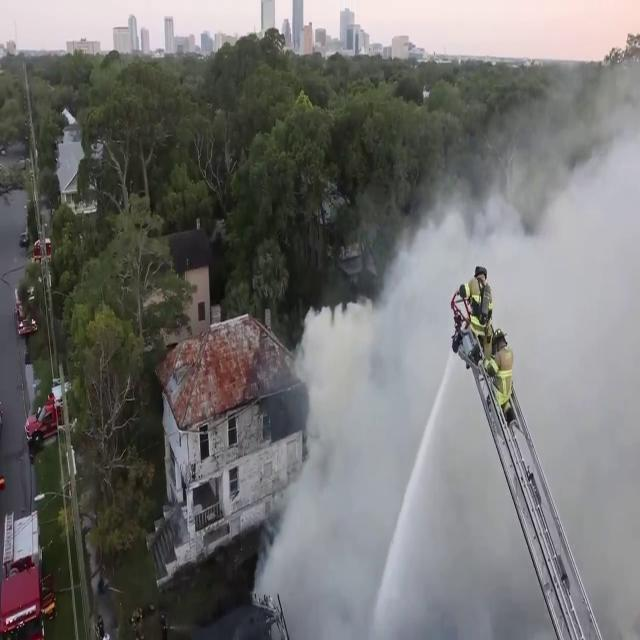Smoke: (308, 363, 511, 640)
